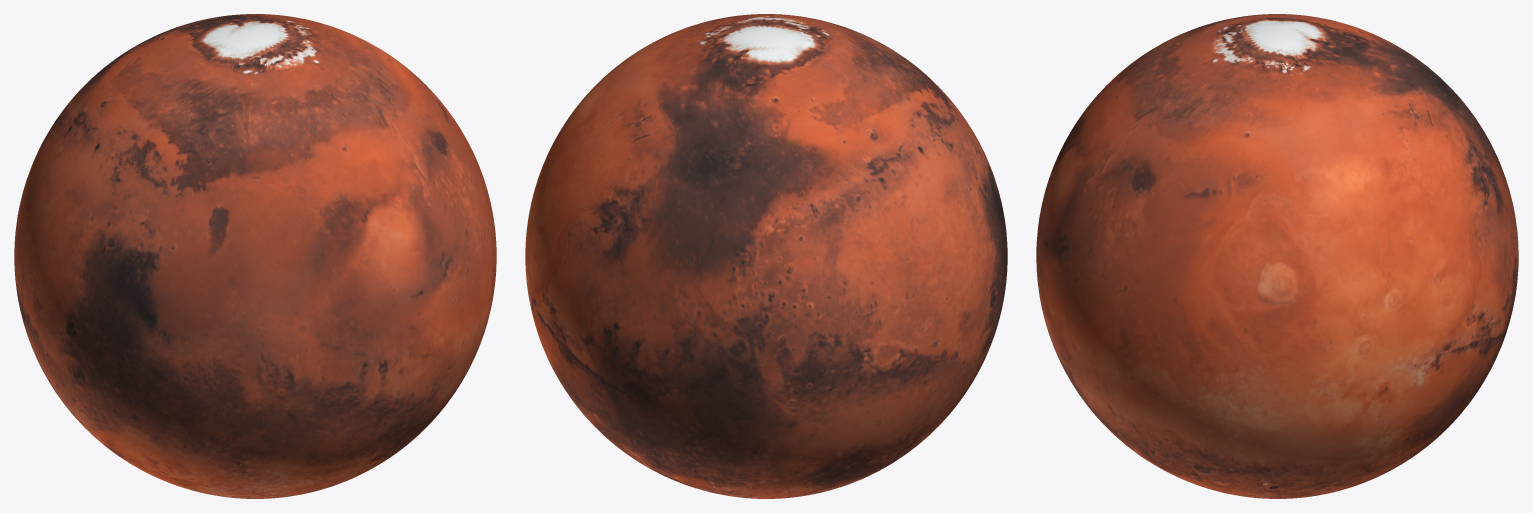
File: EarthsFrigidAndAridNeighbor.glb
The picture shows the model from 3 angles, left to right: view 1: azimuth 30°, elevation 25°; view 2: azimuth 150°, elevation 25°; view 3: azimuth 270°, elevation 25°; orthographic projection.
Parts seen in each view (by area): view 1: Object_2; view 2: Object_2; view 3: Object_2.
Part boxes in pixels (box(x1,y1,x2,y2)): Object_2: box(14, 14, 496, 498); Object_2: box(525, 14, 1007, 498); Object_2: box(1036, 14, 1518, 498).
Bounding box in the file's own units: 1.58 × 1.6 × 1.58.
Materials: 1 (1 with a texture image).
